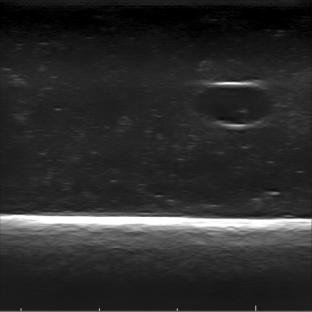vessel: (193, 81, 274, 130)
